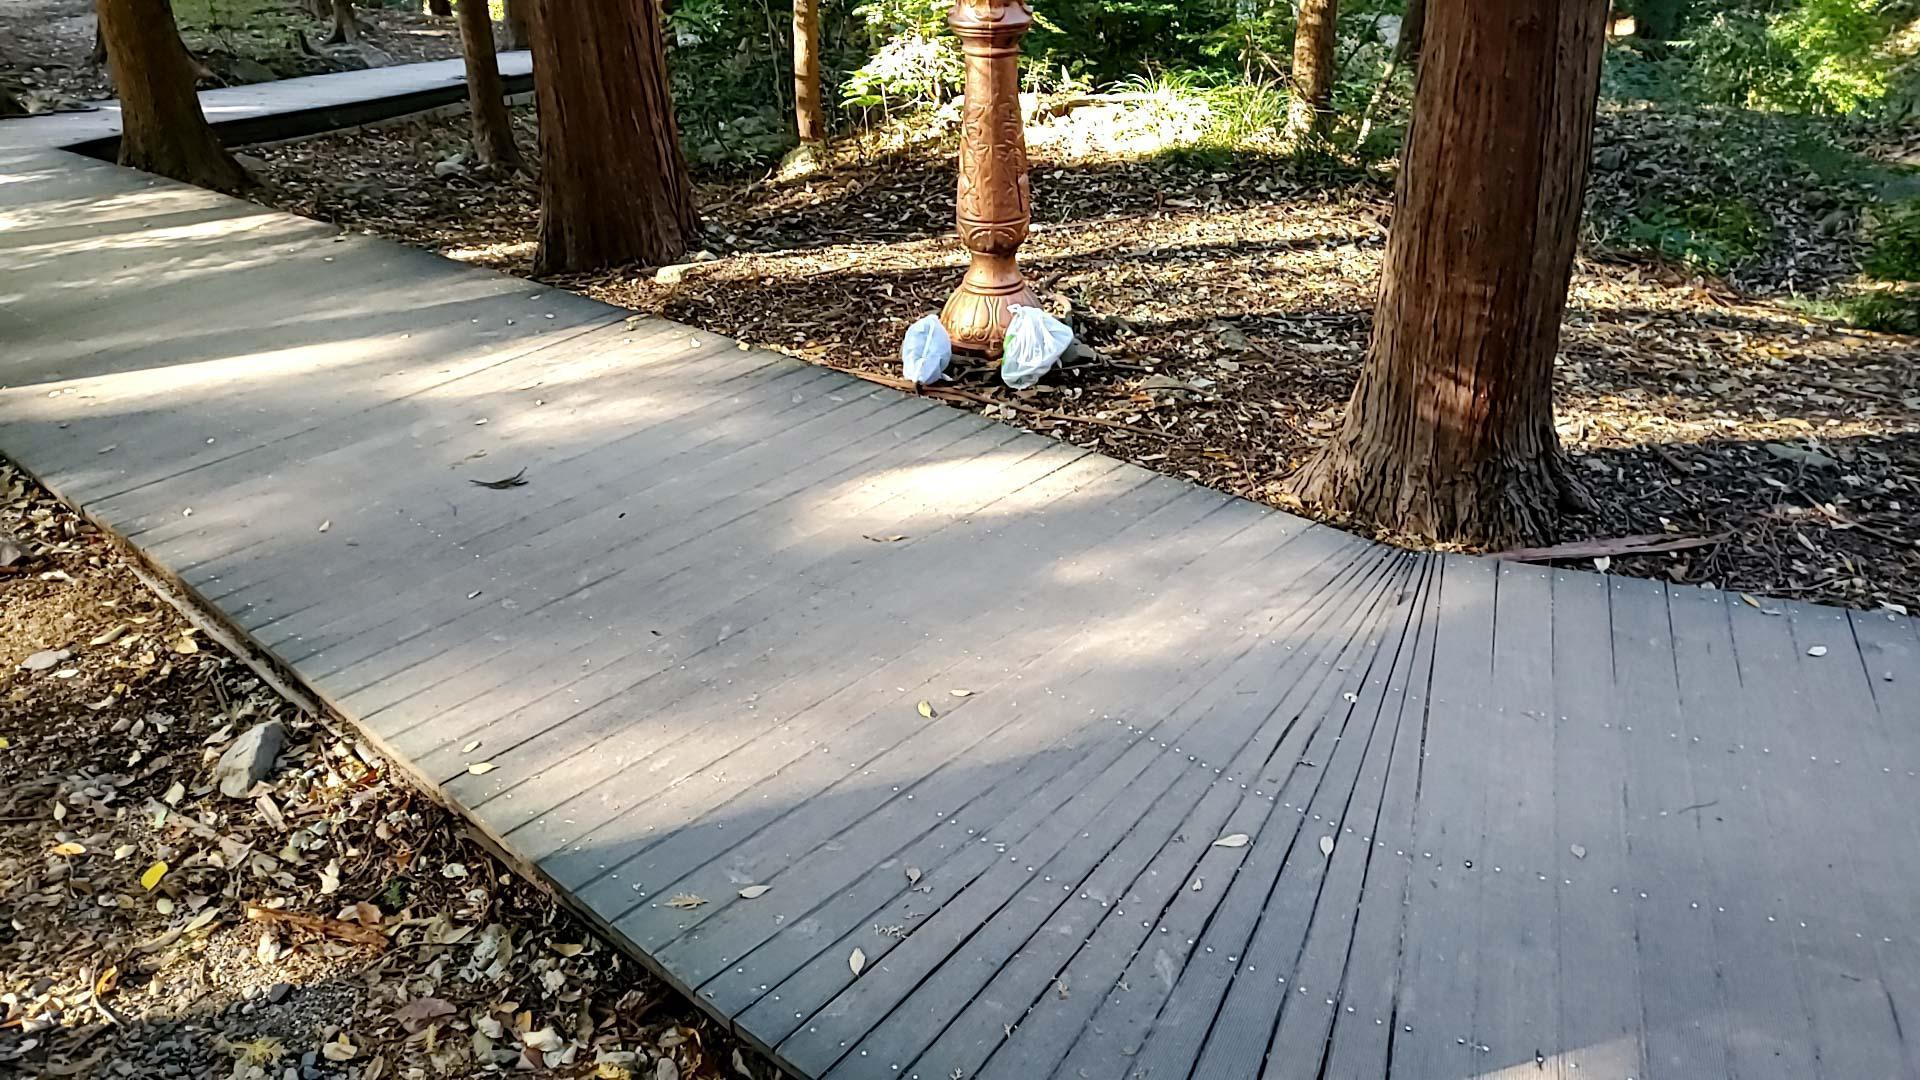white_bag: (996, 301, 1077, 392), (895, 311, 956, 386)
